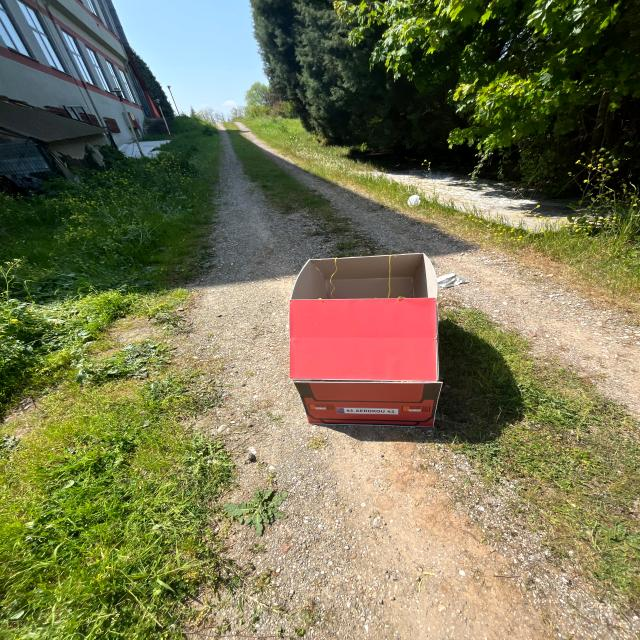red_car: (258, 244, 492, 441)
